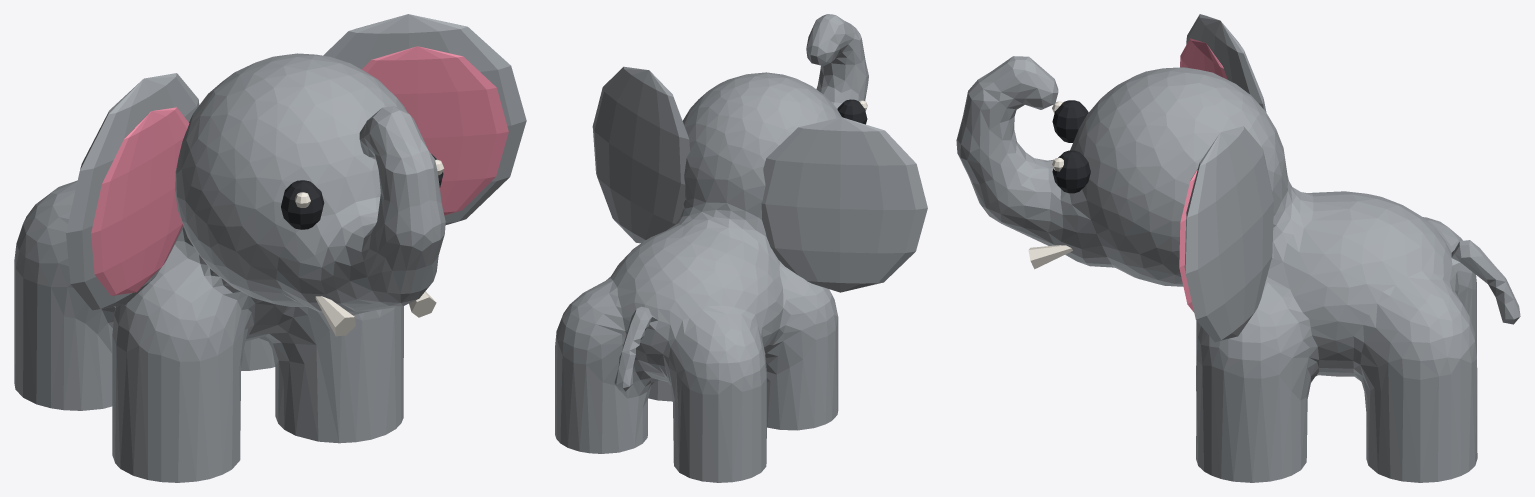
The model's file is elephant-calf-pet.glb.
3 renders of one model, left to right at view 1: azimuth 30°, elevation 25°; view 2: azimuth 150°, elevation 25°; view 3: azimuth 270°, elevation 25°, orthographic. The views are drawn at different scales.
Visible parts, largest first — view 1: ElephantCalf, EarInner_R, EarInner_L, Ear_L, Ear_R, Eye_L, Tusk_L; view 2: ElephantCalf, Ear_L, Ear_R, Eye_L; view 3: ElephantCalf, Ear_R, Ear_L, Eye_R, EarInner_L, Eye_L, EarInner_R, Tusk_R.
Part boxes in pixels (x1,y1,x2,y2): ElephantCalf: (14,53,445,482); EarInner_R: (362,46,508,215); EarInner_L: (91,107,189,295); Ear_L: (66,73,199,310); Ear_R: (323,14,526,224); Eye_L: (281,180,324,229); Tusk_L: (315,296,355,336); ElephantCalf: (555,14,868,482); Ear_L: (761,117,927,292); Ear_R: (592,66,690,243); Eye_L: (837,99,867,124); ElephantCalf: (956,56,1520,482); Ear_R: (1184,126,1273,342); Ear_L: (1186,14,1266,112); Eye_R: (1052,150,1090,193); EarInner_L: (1180,38,1227,79); Eye_L: (1052,100,1088,142); EarInner_R: (1179,169,1197,312); Tusk_R: (1028,245,1072,269).
Size of the model in its own units: 3.11 by 2.74 by 3.81.
